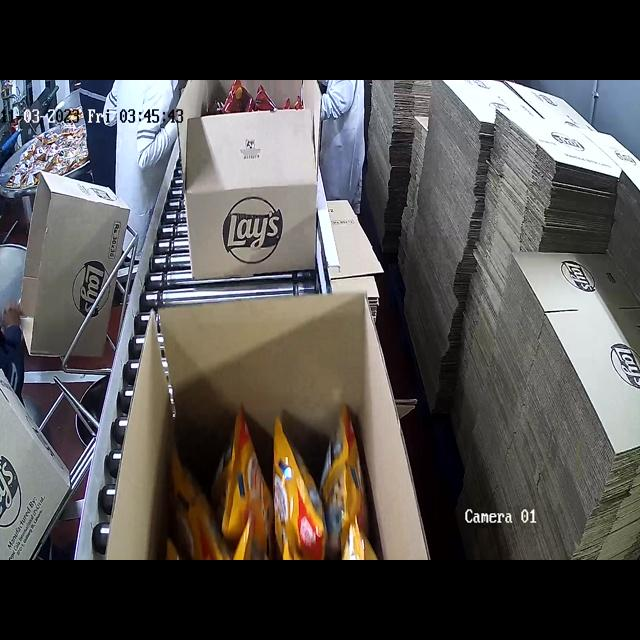cheese: (165, 420, 380, 560)
